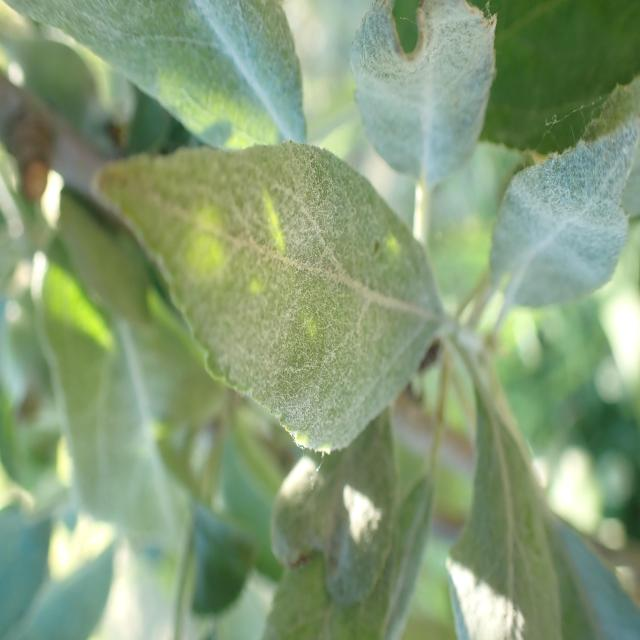Powdery_mildew: (101, 142, 407, 450), (0, 0, 322, 151), (260, 406, 433, 640), (446, 374, 574, 640), (480, 122, 640, 328), (335, 2, 493, 185)
